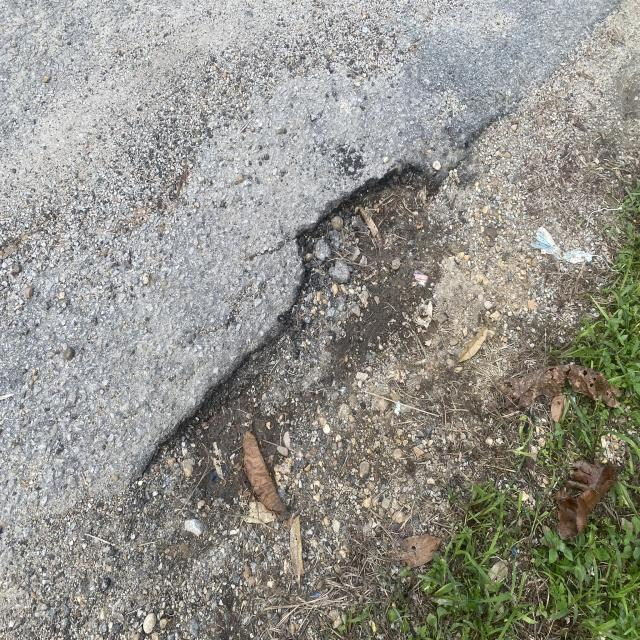Pothole: (93, 131, 528, 490)
